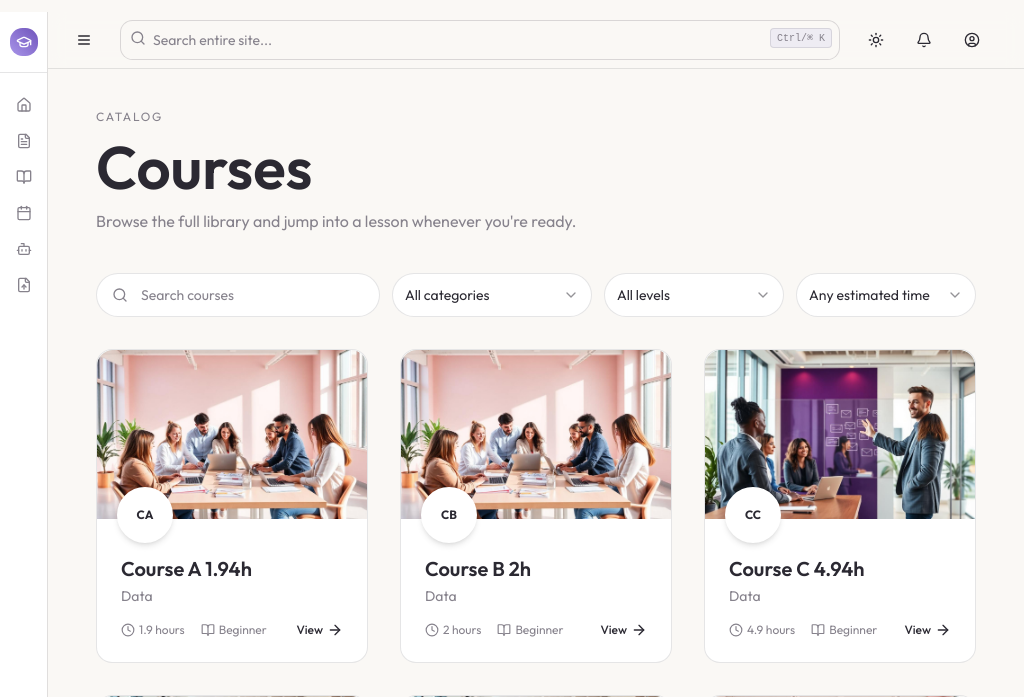
Scenario: CourseList estimated time › offers exactly the four estimated-time buckets plus Any, not raw duration values
The image size is (1024, 697).
Check: the heading "Course A 1.94h" is shown, box [121,556,252,581]
Click the dropdown labelled "estimated time": (886, 295) [796,273,976,317]
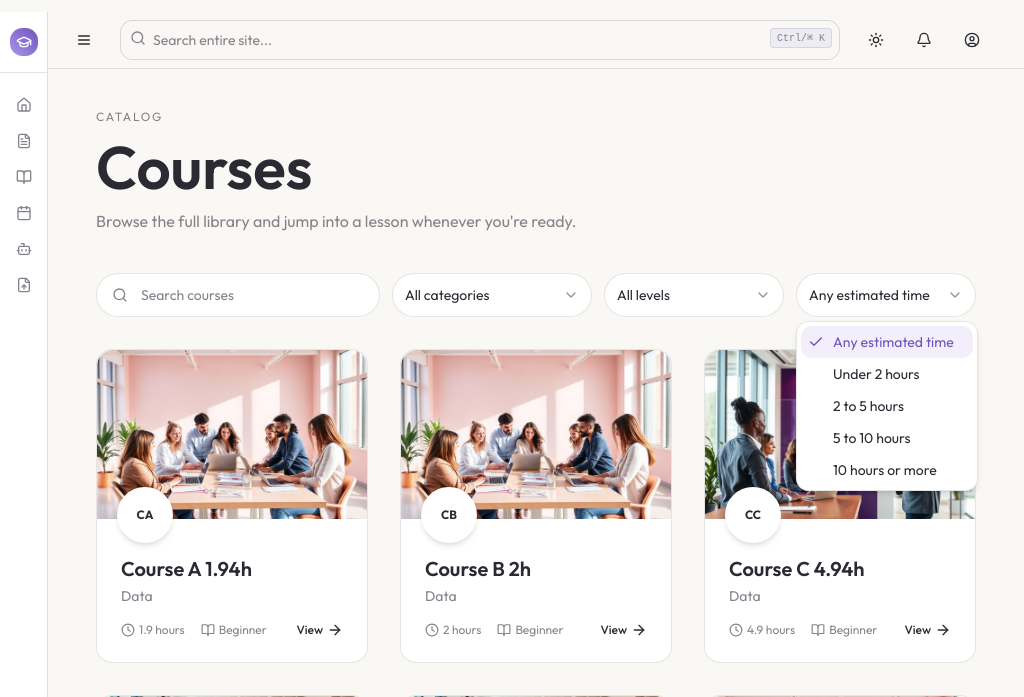
Check: the options read "Any estimated time", "Under 2 hours", "2 to 5 hours", "5 to 10 hours", "10 hours or more", in this order, box [801,326,973,358]; [833,365,919,383]; [833,397,904,415]; [833,429,910,447]; [833,461,937,479]
